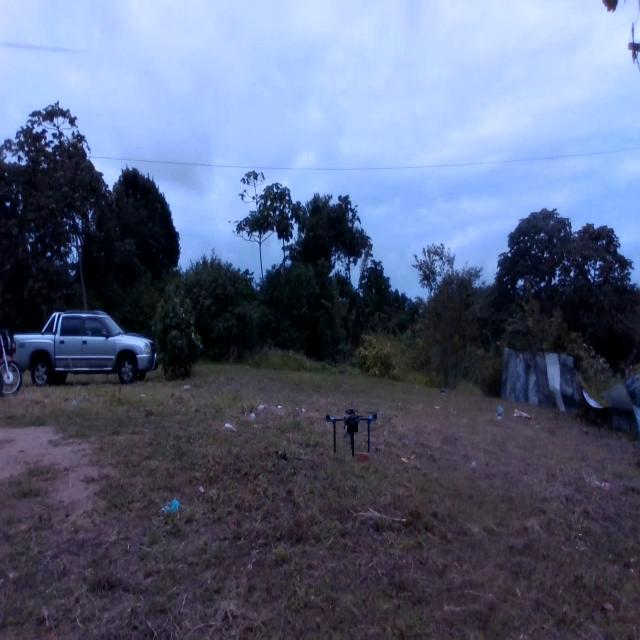-uav-: (320, 392, 380, 460)
